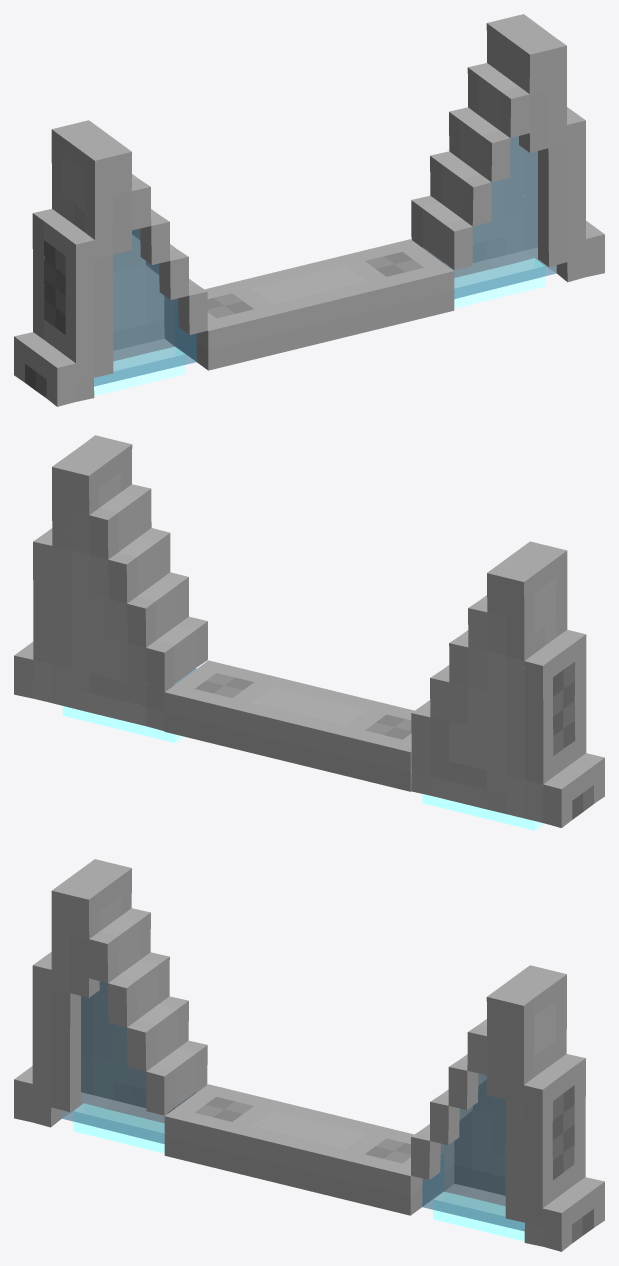
The model's file is Ears_0.glb.
The picture shows the model from 3 angles, top to bottom: view 1: azimuth 30°, elevation 25°; view 2: azimuth 150°, elevation 25°; view 3: azimuth 330°, elevation 25°; orthographic projection.
Parts seen in each view (by area): view 1: model_ear-R_27_9_0, model_ear-L_23_7_0, model_ear-M_25_8_0; view 2: model_ear-R_27_9_0, model_ear-L_23_7_0, model_ear-M_25_8_0; view 3: model_ear-R_27_9_0, model_ear-L_23_7_0, model_ear-M_25_8_0.
Boxes of the visible parts, x1,y1,x2,y2 form: model_ear-R_27_9_0: (14, 120, 207, 406); model_ear-L_23_7_0: (411, 14, 604, 308); model_ear-M_25_8_0: (175, 239, 454, 370); model_ear-R_27_9_0: (411, 541, 604, 830); model_ear-L_23_7_0: (14, 435, 207, 742); model_ear-M_25_8_0: (164, 660, 414, 791); model_ear-R_27_9_0: (14, 859, 207, 1153); model_ear-L_23_7_0: (411, 965, 604, 1251); model_ear-M_25_8_0: (164, 1084, 443, 1215).
Size of the model in its own units: 2.9 by 1.3 by 0.4.
